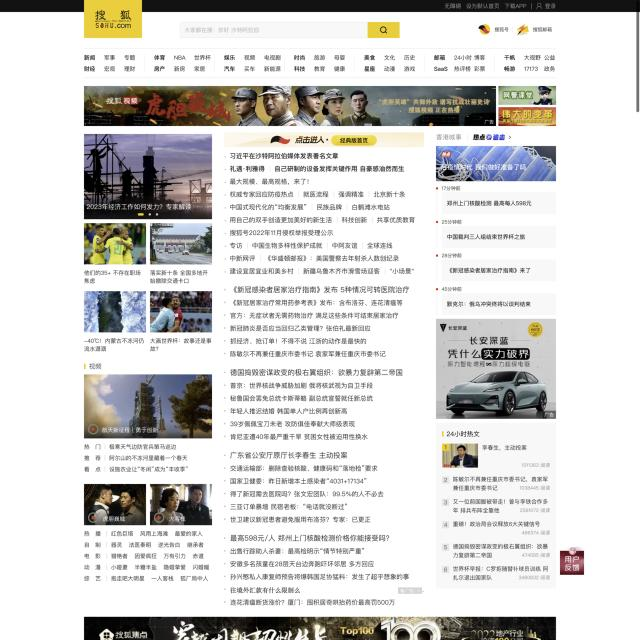input: (180, 21, 400, 38)
logo: (83, 0, 143, 39)
navigation: (81, 48, 557, 78), (441, 2, 527, 10)
